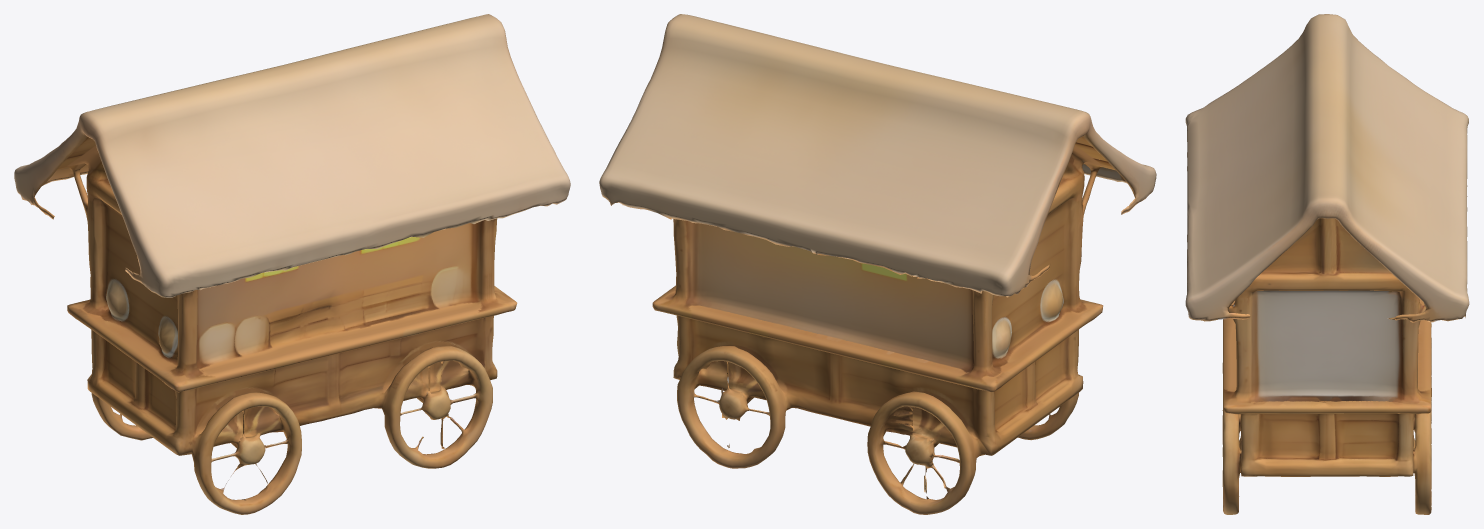
File: clean-shop.glb
3 renders of one model, left to right at view 1: azimuth 30°, elevation 25°; view 2: azimuth 150°, elevation 25°; view 3: azimuth 270°, elevation 25°, orthographic. The views are drawn at different scales.
Visible parts, largest first — view 1: model; view 2: model; view 3: model.
Boxes of the visible parts, x1=… form: model: x1=14, y1=14, x2=570, y2=514; model: x1=599, y1=14, x2=1156, y2=514; model: x1=1185, y1=14, x2=1469, y2=514.
Size of the model in its own units: 1.89 by 1.67 by 1.19.
Materials: 1 (1 with a texture image).
